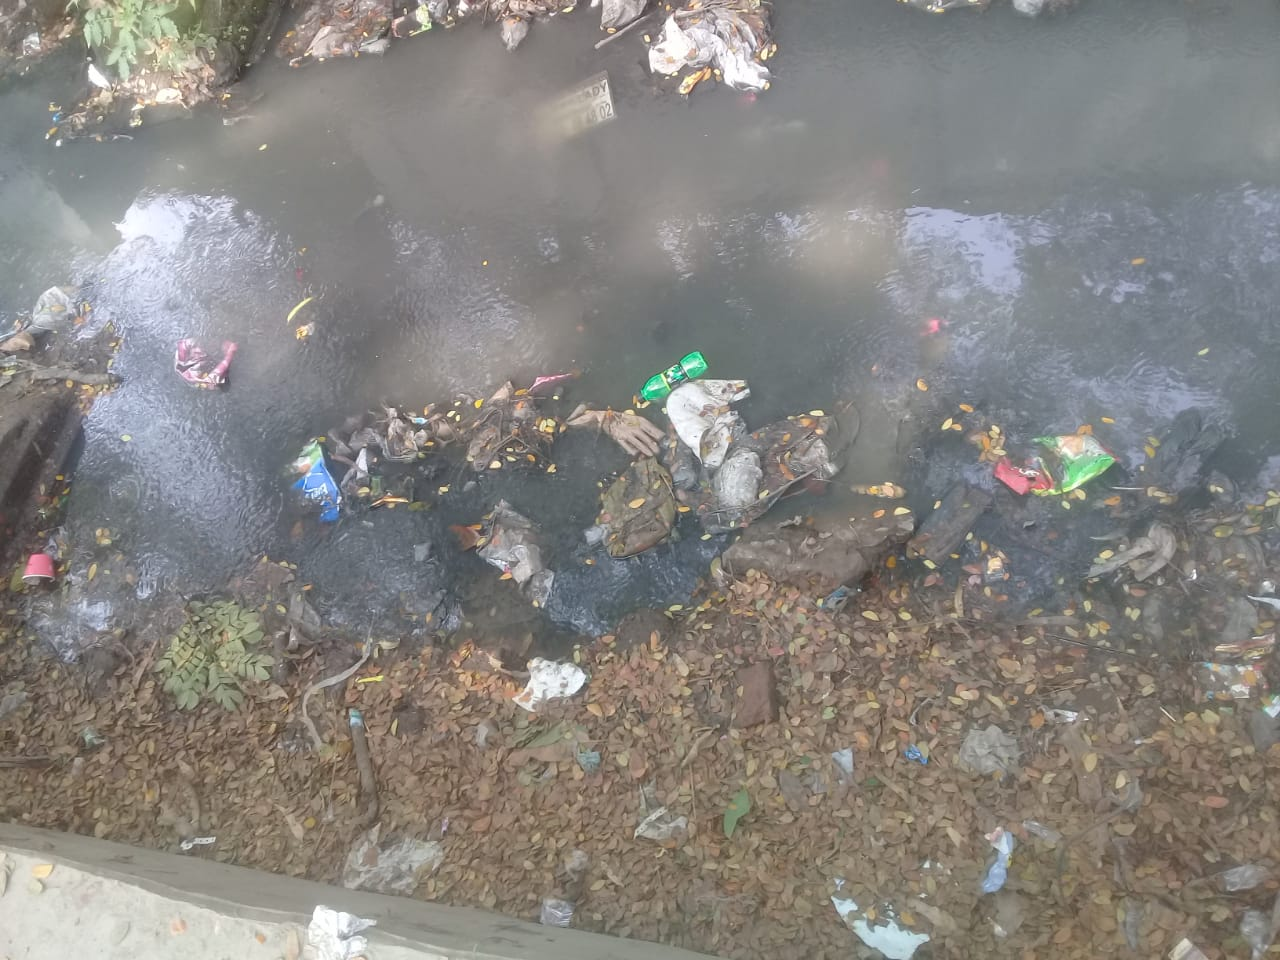Plastic Bottle: (637, 351, 707, 403), (503, 17, 527, 52)
